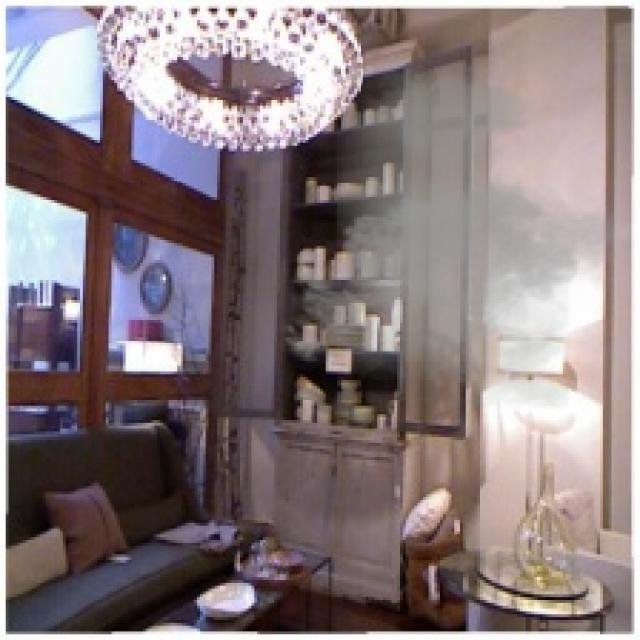Smoke: (272, 60, 634, 409)
